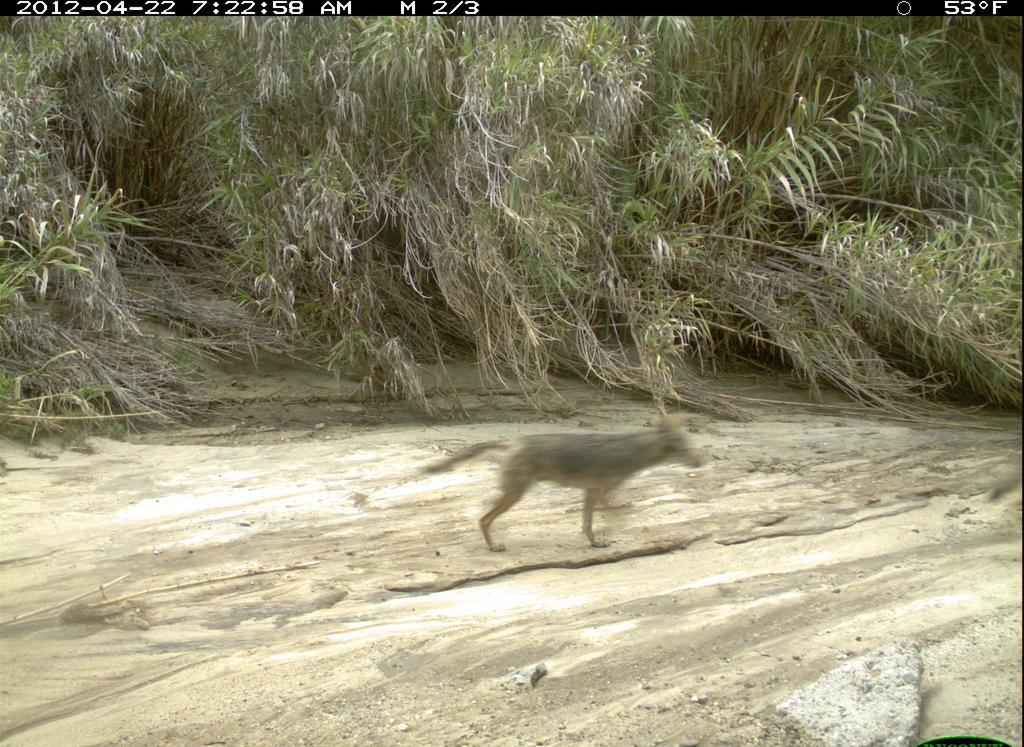coyote: (424, 411, 712, 562)
